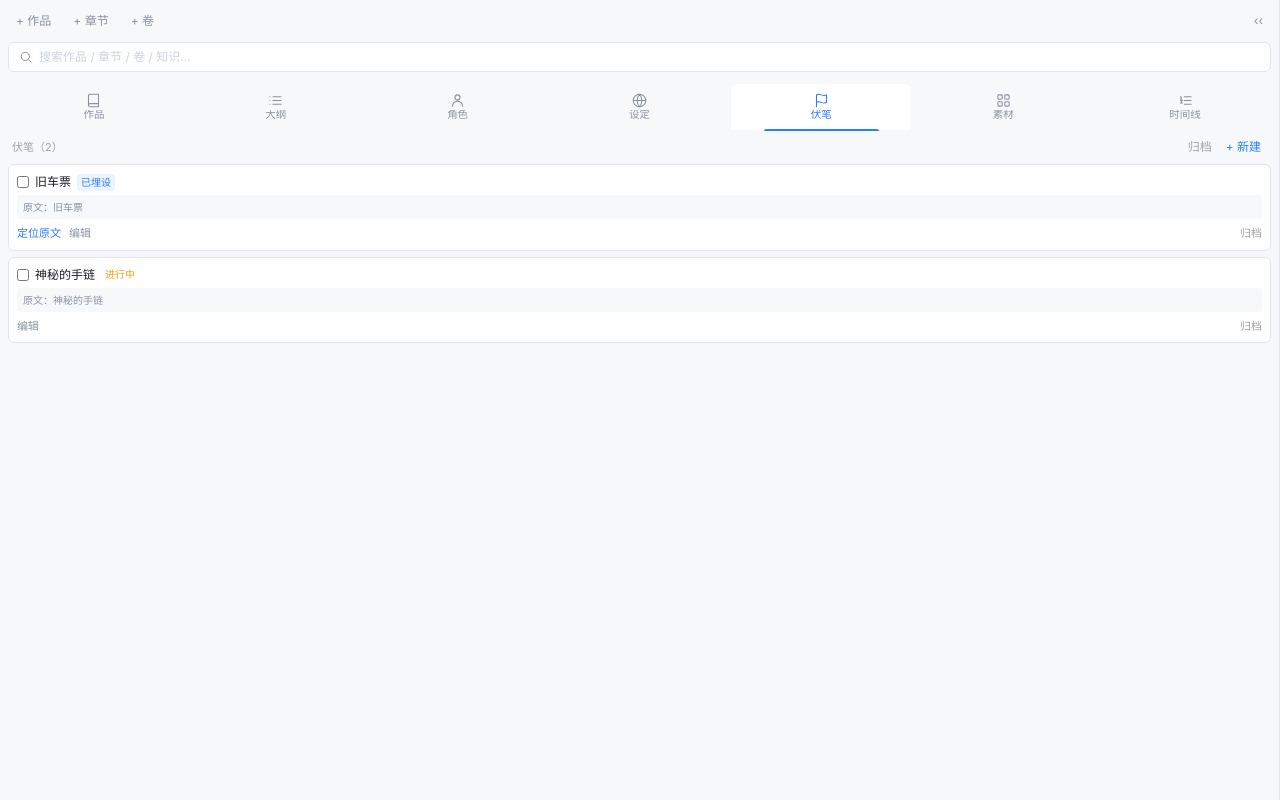
伏笔批量删除：多选 → 二次确认 → 批量删除（正文关联同步清除） › 勾选两条伏笔 → 删除确认 → deleteBatch 携带全部选中 id
This screenshot has width=1280, height=800.
Click the checkbox titled "选择（可批量归档 / 删除）" in the row of "已埋设" at (23, 182), box [17, 176, 29, 188]
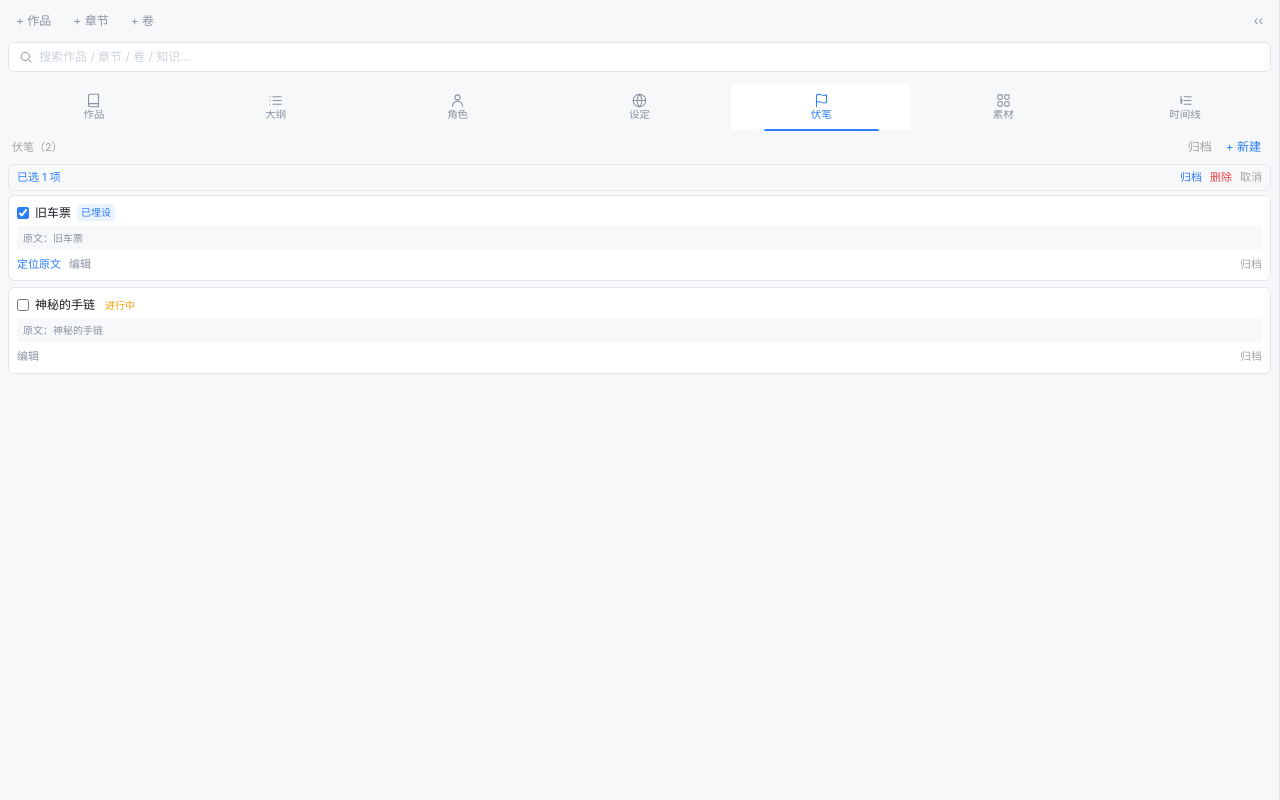
Click the checkbox titled "选择（可批量归档 / 删除）" in the row of "进行中" at (23, 305), box [17, 299, 29, 311]
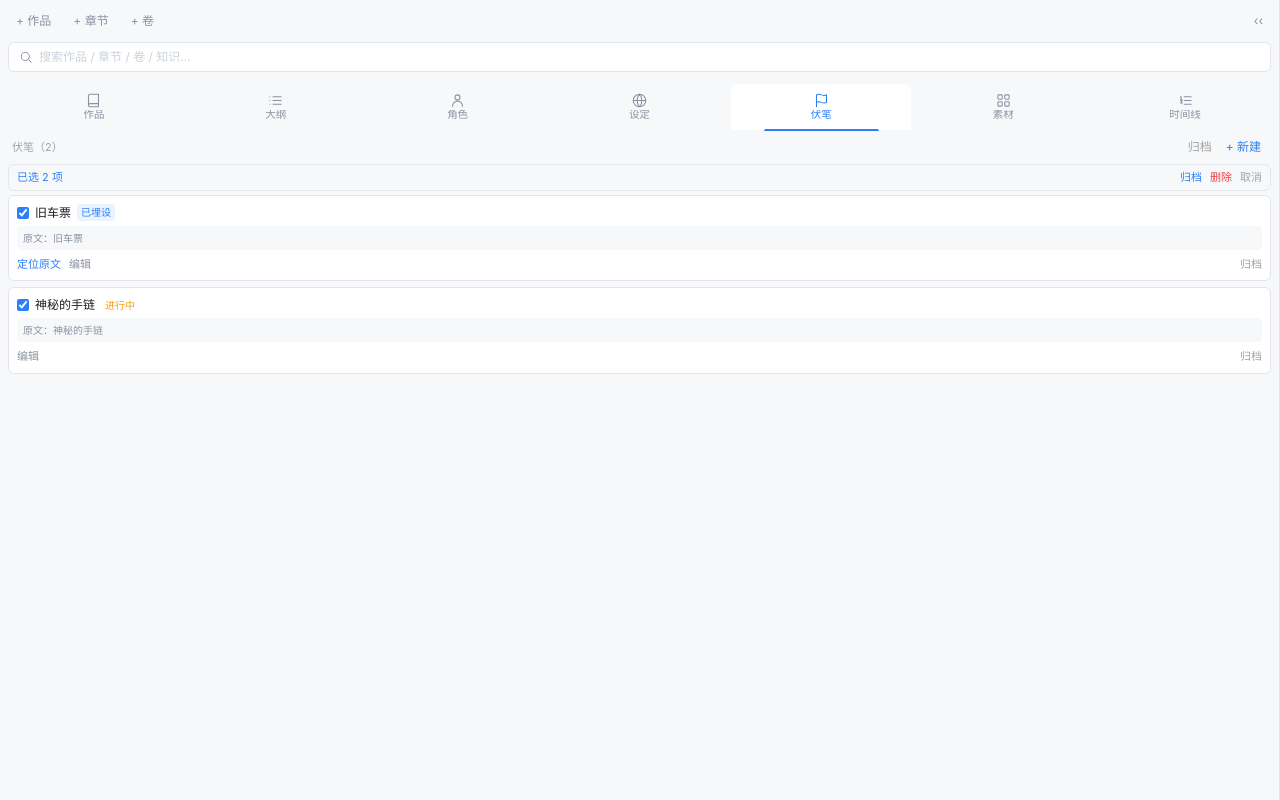
Check: the text "已选 2 项" is shown, box [17, 169, 63, 186]
Click the button titled "批量删除选中伏笔（留存删除日志快照）" at (1221, 177), box [1210, 169, 1232, 186]
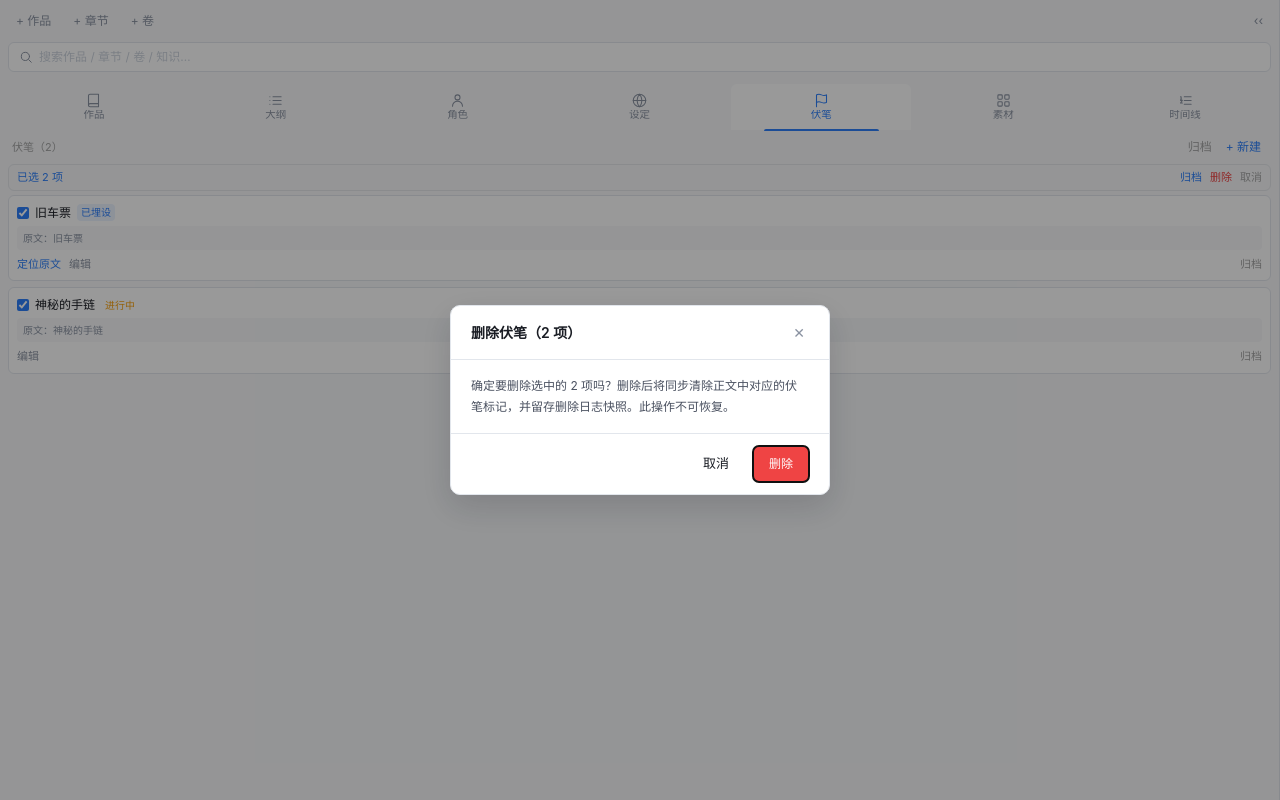
Check: the text "确定要删除选中的 2 项吗？删除后将同步清除正文中对应的伏笔标记，并留存删除日志快照。此操作不可恢复。" is shown, box [471, 378, 797, 414]
Click the button "删除" at (781, 464), box [753, 446, 809, 482]
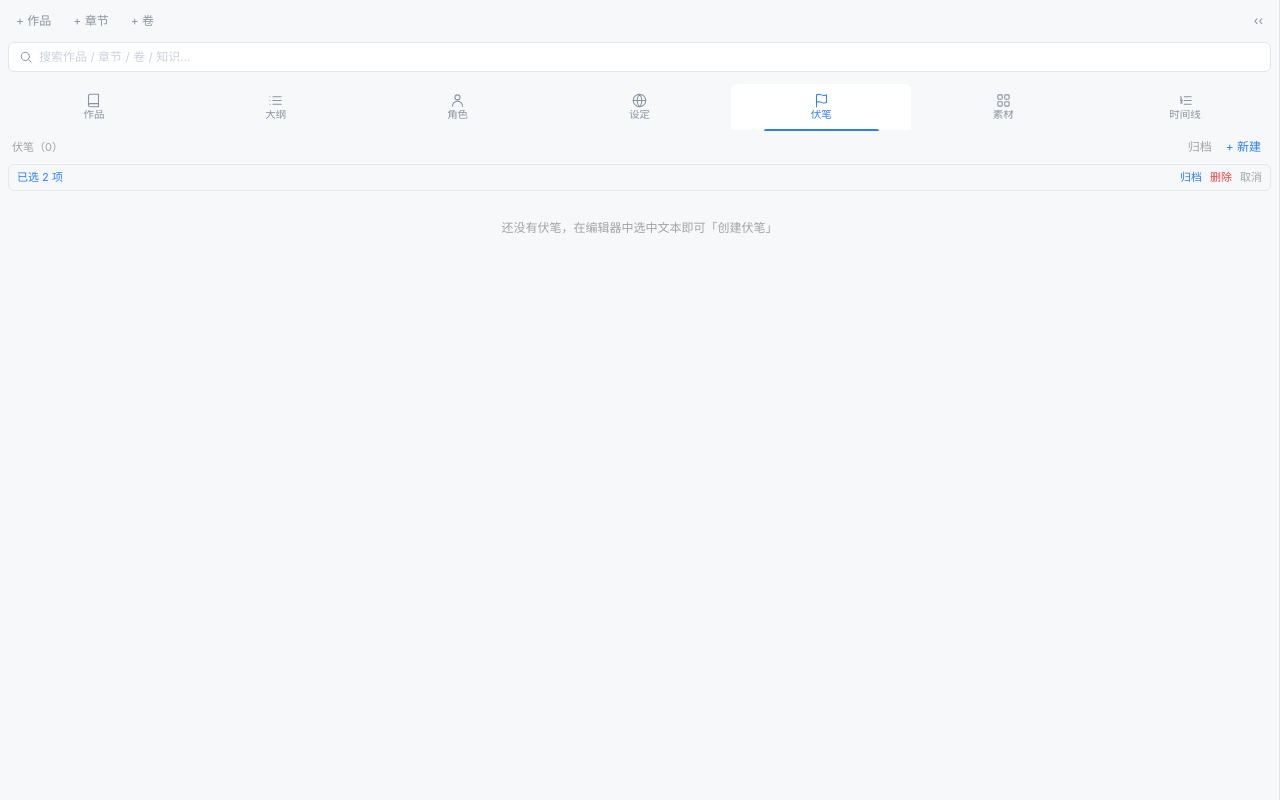
Check: the text "旧车票" is gone
